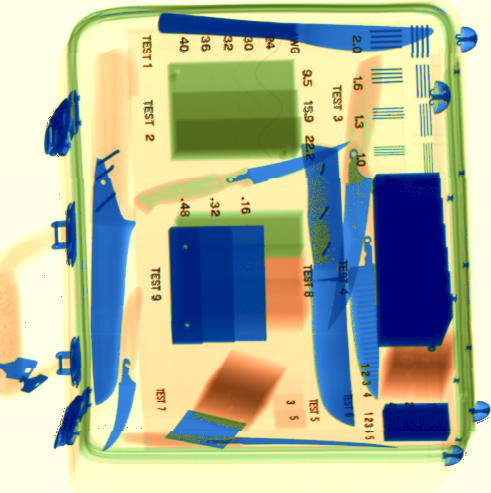Knife: (89, 56, 136, 405), (132, 139, 350, 213), (300, 143, 355, 428), (329, 54, 385, 330), (157, 11, 434, 53), (103, 287, 144, 450), (123, 428, 401, 450), (350, 234, 382, 402)
